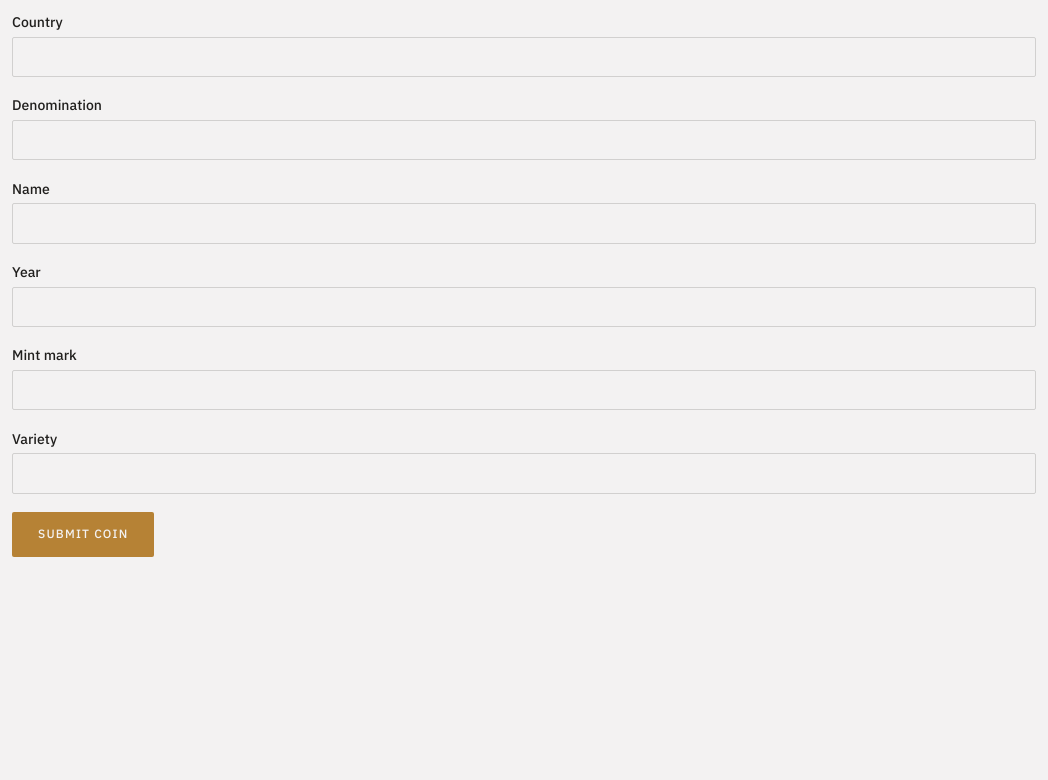
Test: SubmitCoinForm › criterion 4: dedup/validation errors surface without an unhandled exception › shows a field-level error for a 400 whose detail matches a known field
Type "USA" into the field with id "submit-coin-country" at (524, 57), box [12,37,1036,77]
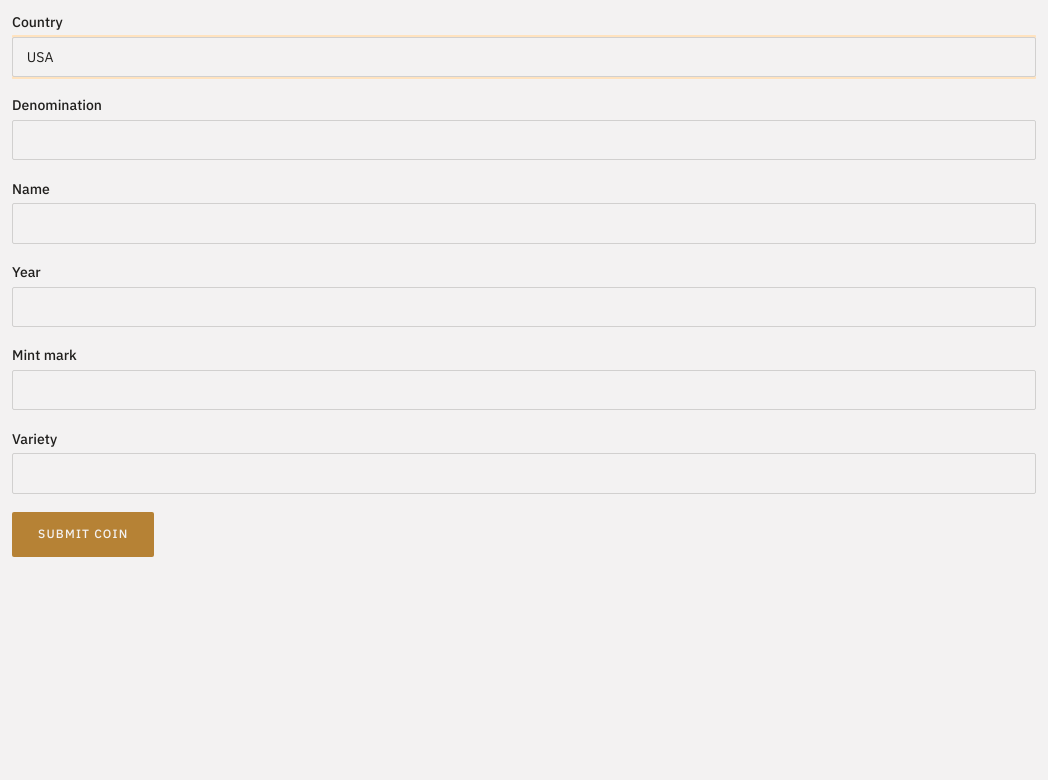
Type "1 Cent" into the field with id "submit-coin-denomination" at (524, 140), box [12,120,1036,160]
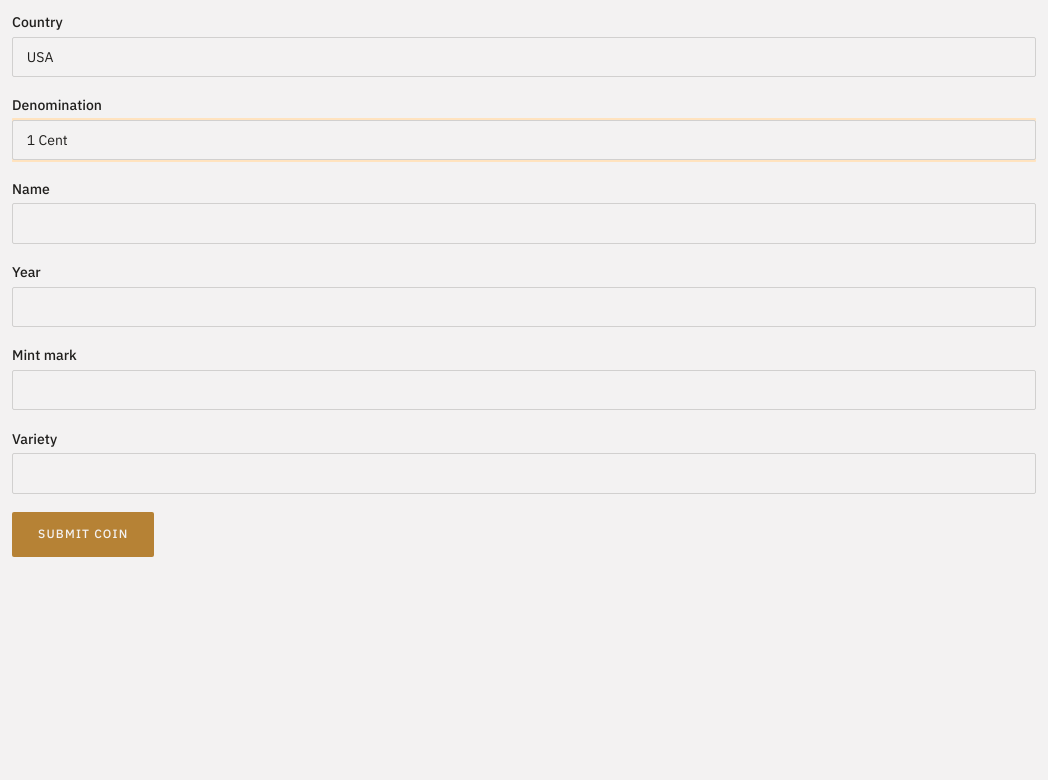
Type "Indian Head Cent" into the field with id "submit-coin-name" at (524, 224), box [12,203,1036,244]
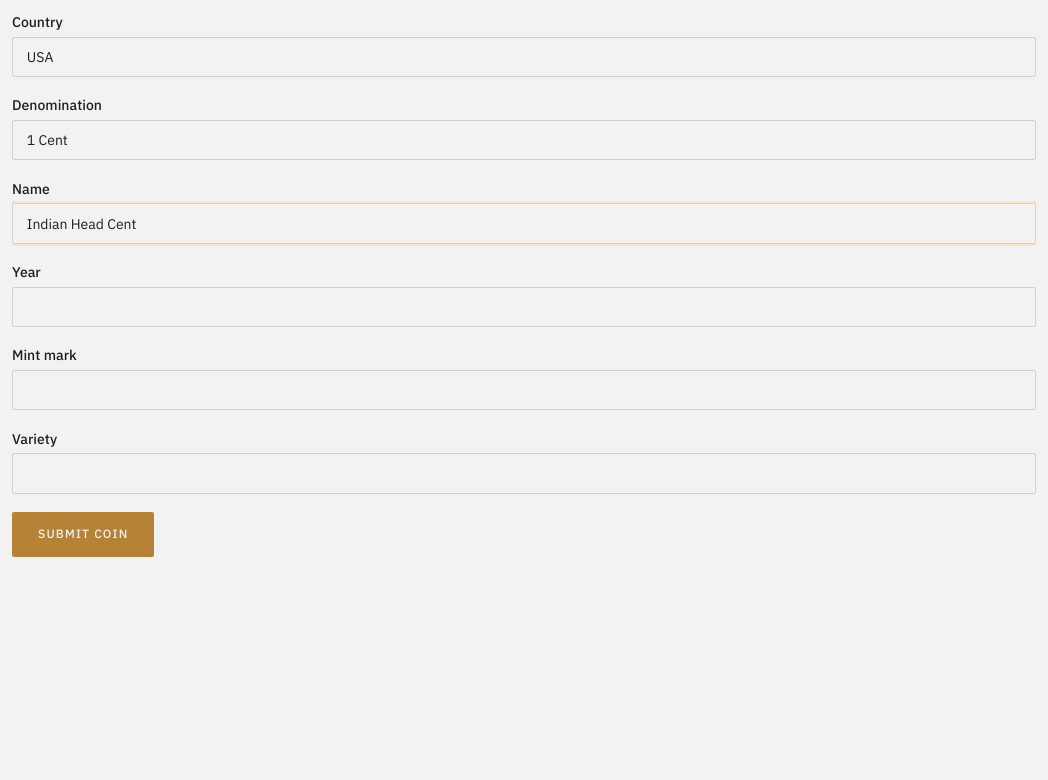
Type "5" into the number field with id "submit-coin-year" at (524, 307), box [12,287,1036,327]
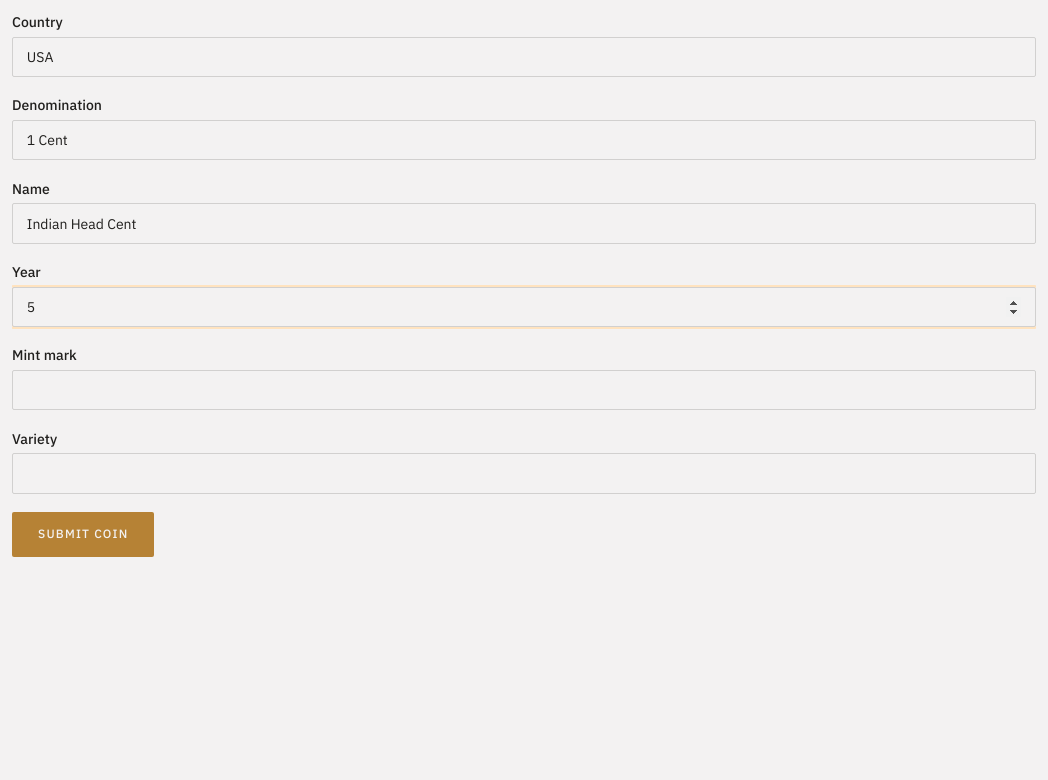
Click the button with test id "submit-coin-submit" at (83, 534), box [12,512,154,557]
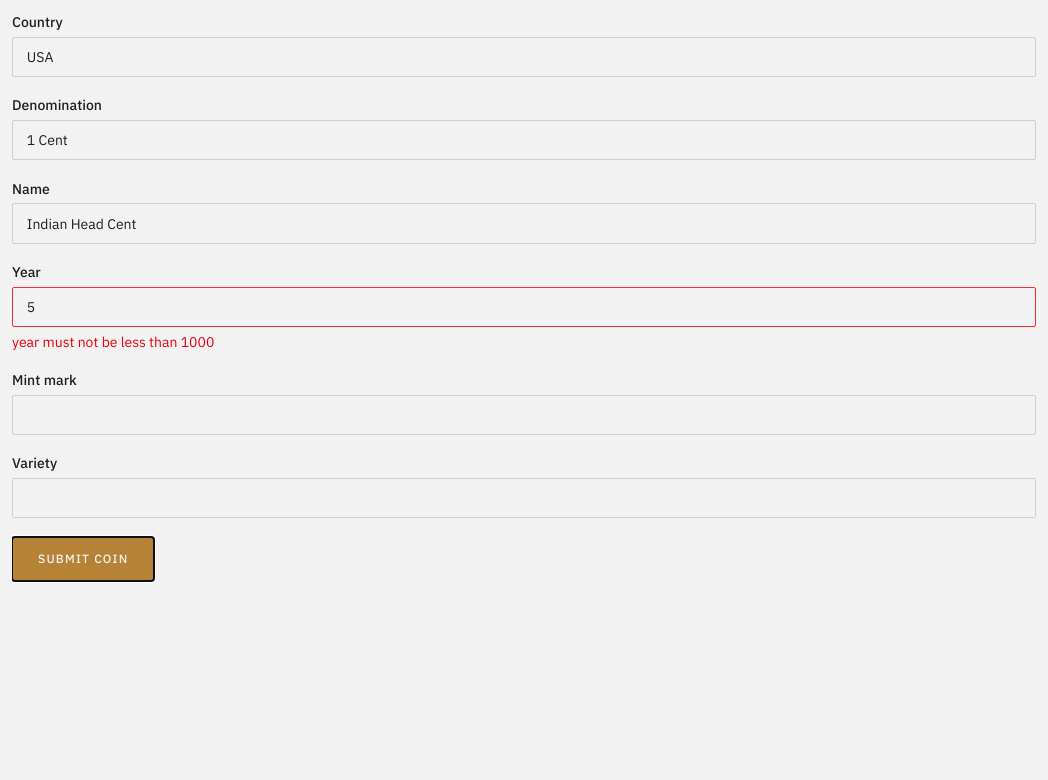
Expected: the text with id "submit-coin-year-error" reads "year must not be less than 1000", [12,333,214,351]
